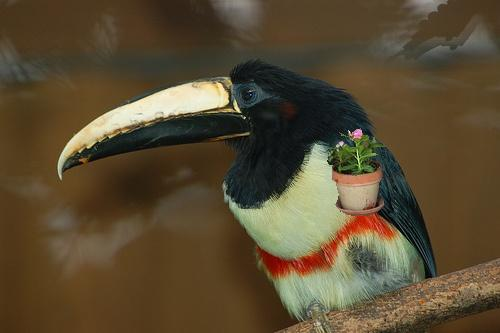tampered: (328, 129, 387, 216)
